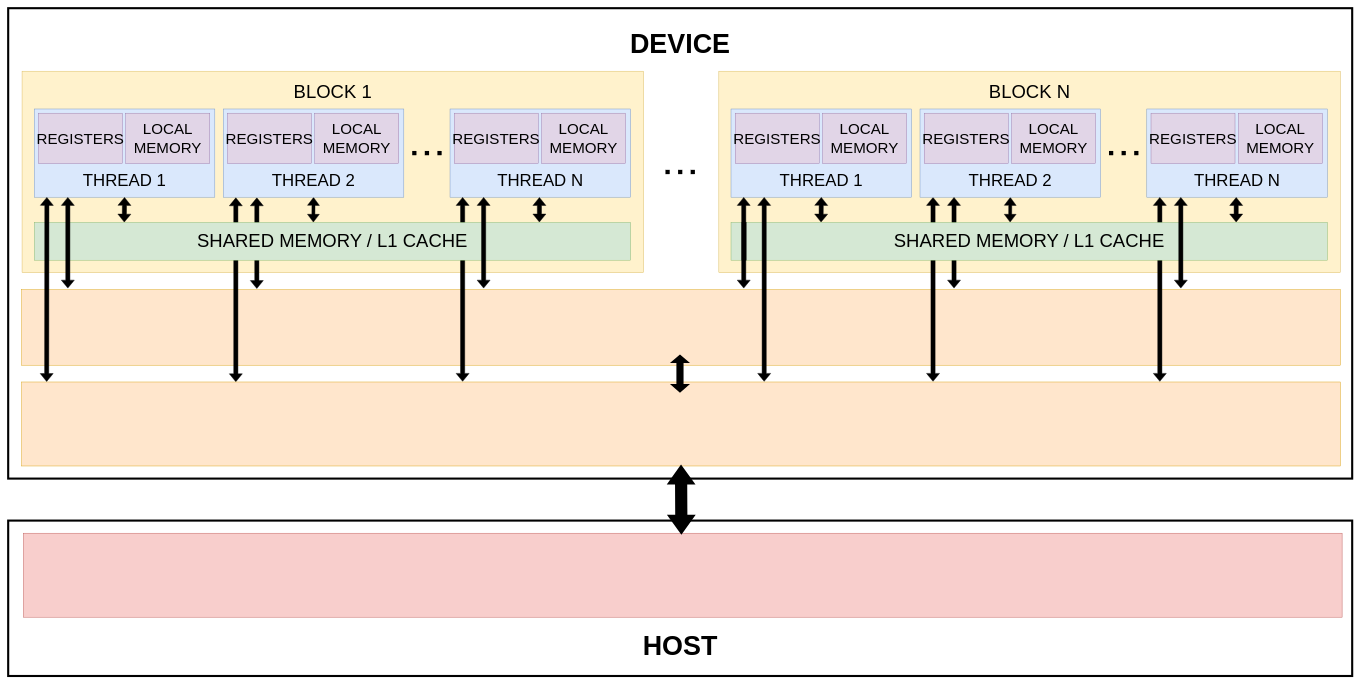
This 1360x684 diagram has some shape labels left out. Each missing label, with the box of its shape:
GLOBAL MEMORY (VRAM, HBM): (21, 382, 1340, 466)
HOST MEMORY (DRAM, HBM): (23, 533, 1342, 617)
L2 CACHE: (21, 289, 1340, 365)
